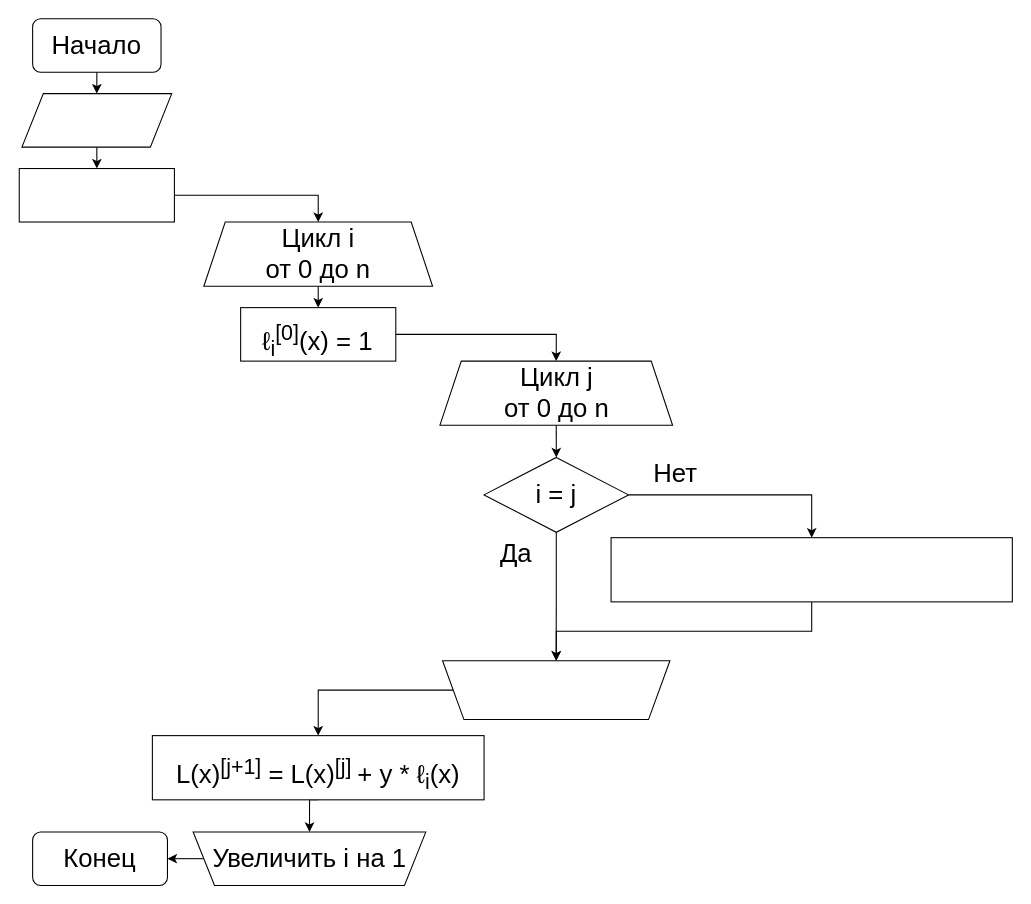
Some shapes in this 1031 by 904 pixel diagram are drawn without their labels. The shapes that lost their labels are listed below. From the top down, each one's centre as x and y in pixels, then its label:
point 96,120: Считать n
point 96,194: L(x) = 0
point 811,569: ℓ i [j+1] (x) = ℓ i [j] (x) * x - x / x - x
point 555,690: Увеличить j на 1
